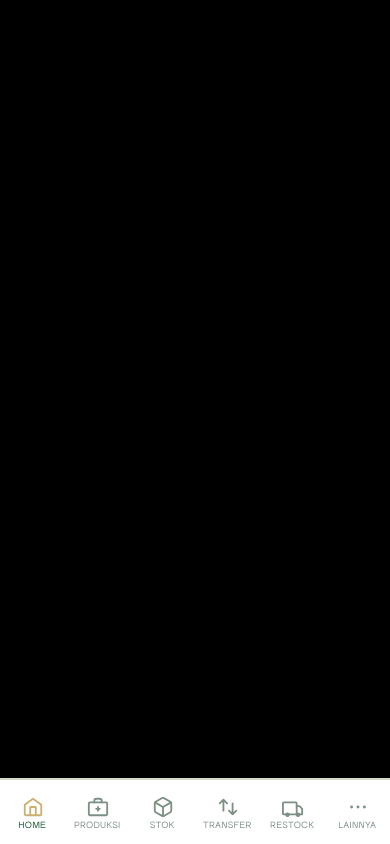
Scenario: AdminBottomNav — redesign 2026-08 (5 item utama + Lainnya) › tab Lainnya › klik backdrop menutup sheet
Click the button "Lainnya". click: {"x": 358, "y": 812}
box: [325,780,389,843]
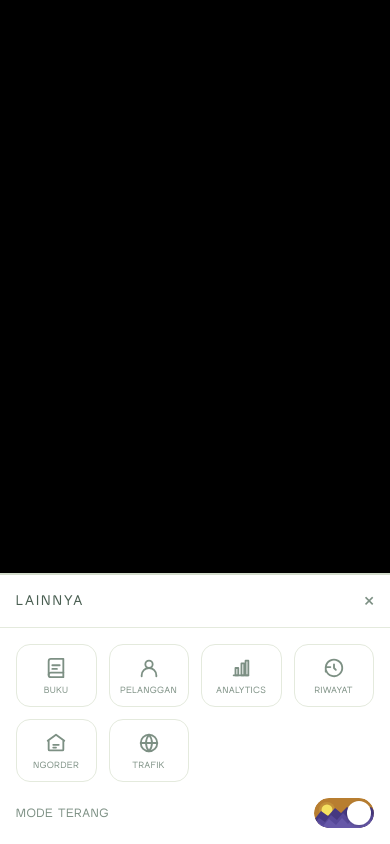
Now the text "Buku" is shown, box [44,685,69,694]
Click the 1st element with class "inset-0". click: {"x": 195, "y": 422}
box: [0,0,389,843]
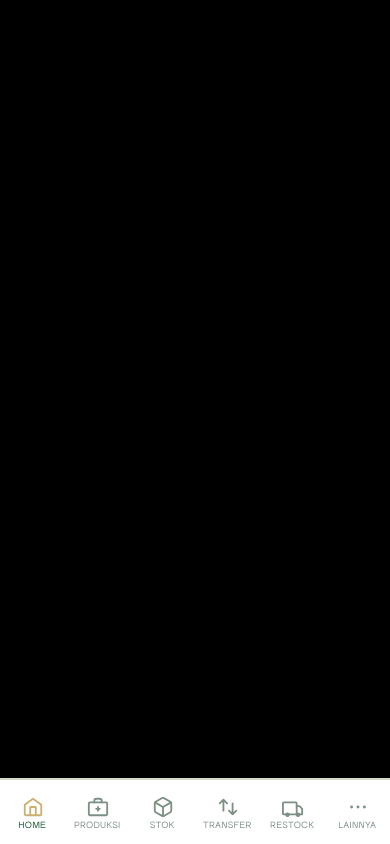
Now the link "Buku" is gone
